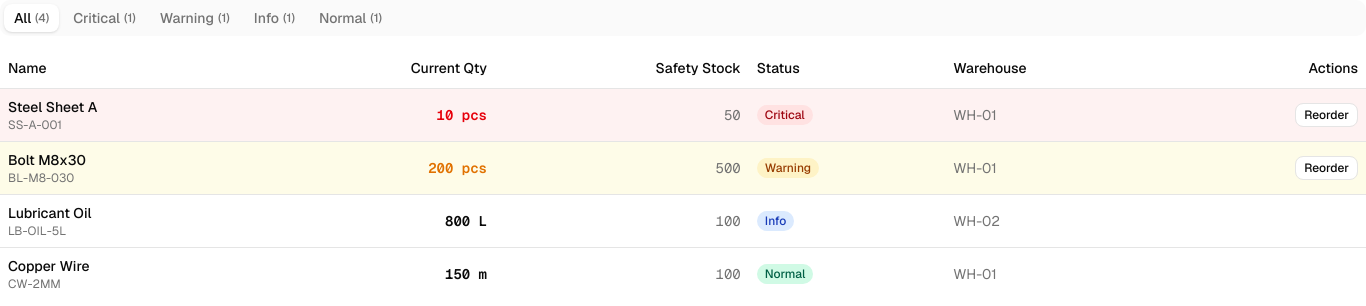
Test: InventoryAlertList › tab switching filters items
Click the button "Critical (1)": (104, 18) [63,4,146,32]
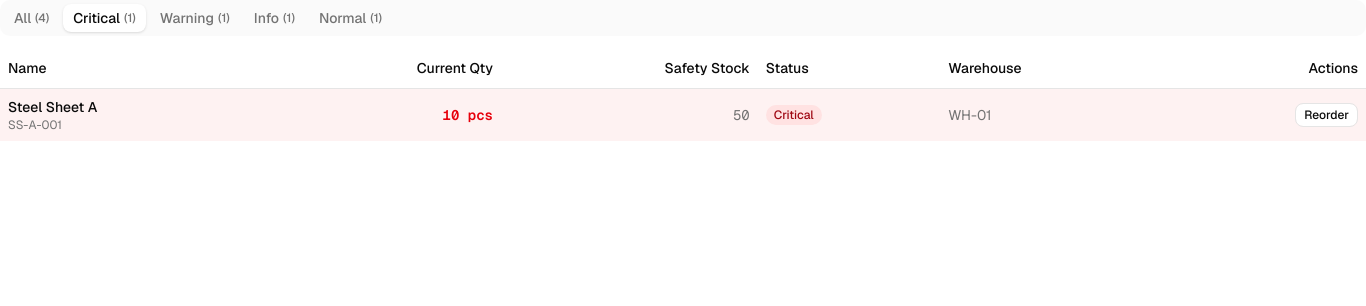
expect the text "Steel Sheet A" is shown: met, box [8,98,97,116]
expect the text "Bolt M8x30" is gone: met
expect the text "Lubricant Oil" is gone: met
